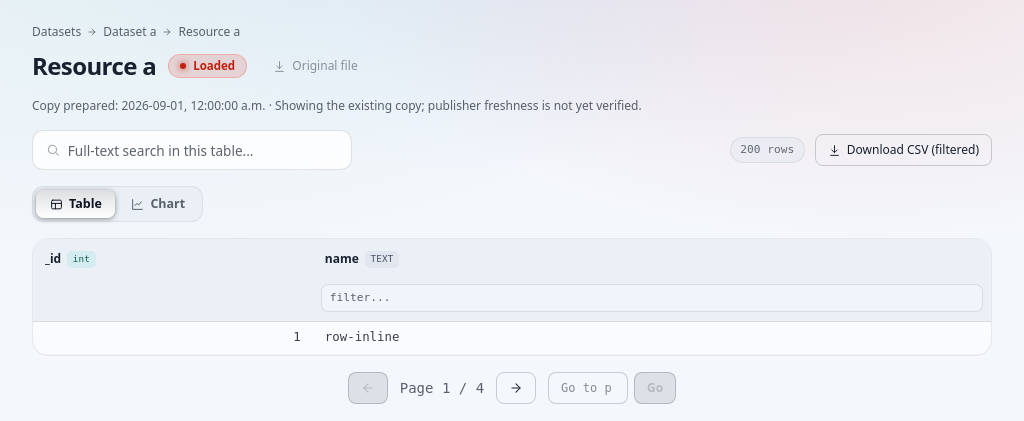
it: ResourcePage embedded initial data › a direct visit draws the embedded page at once and makes no request for it
This screenshot has width=1024, height=421.
Expected: the text "row-inline" is shown, [313, 322, 991, 355]
Expected: the heading "Resource a" is shown, [32, 50, 156, 82]
Click the button named "Next page".
click(516, 388)  # box [496, 372, 536, 404]
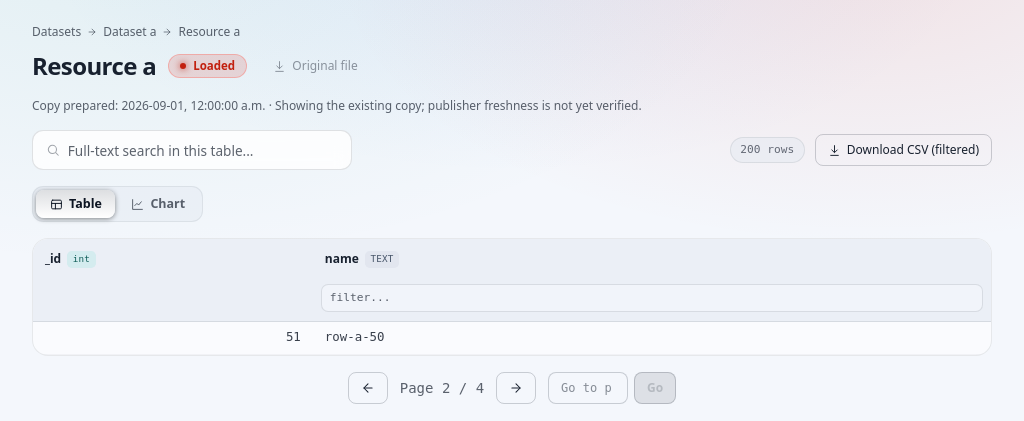
Now the text "row-a-50" is shown, box [313, 322, 991, 355]
